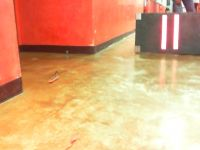switch: (172, 14, 179, 50), (160, 15, 167, 50)
